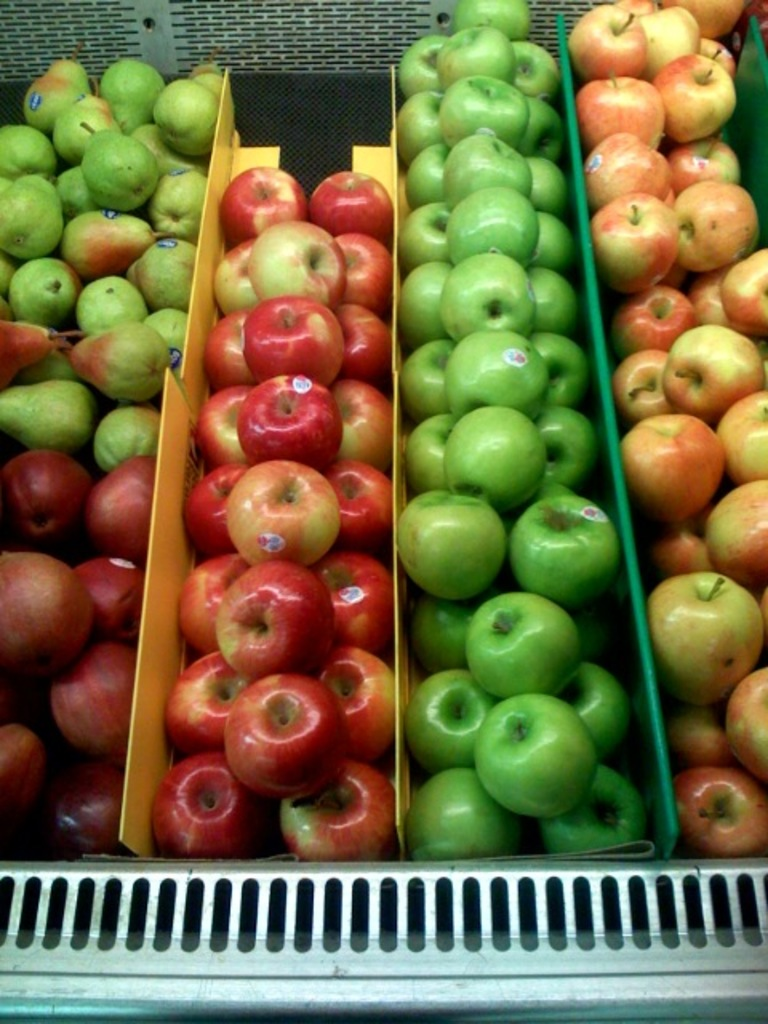Apple: (393, 0, 656, 857), (0, 57, 227, 856), (563, 0, 766, 852), (148, 161, 385, 862), (459, 691, 617, 830)
